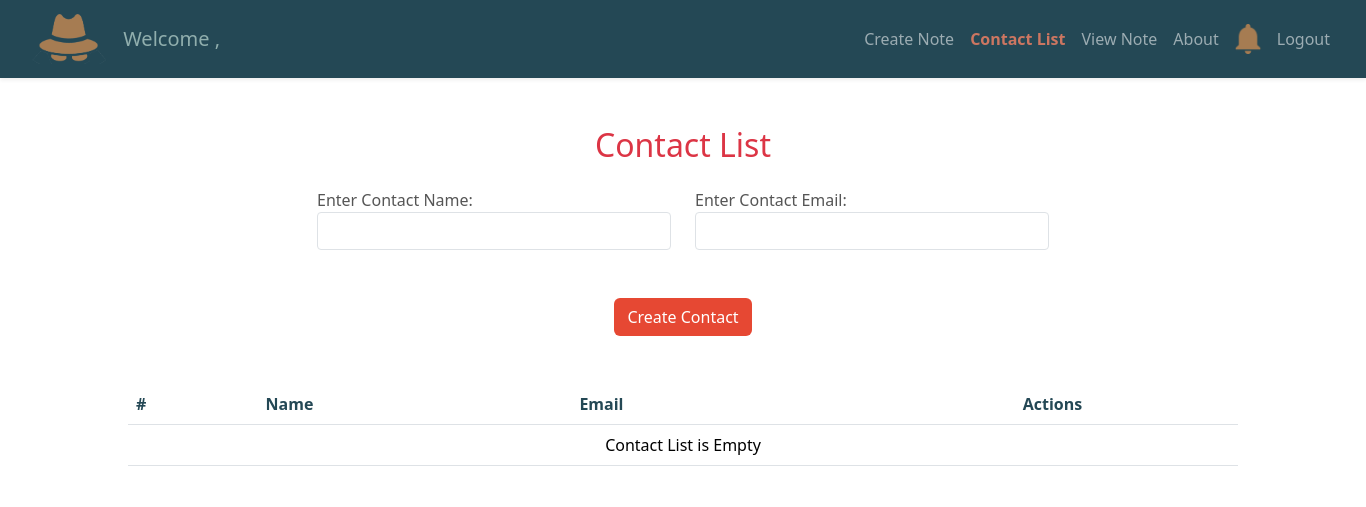
Scenario: Contact List Page Testing › shows error messages when trying to create a contact with invalid email
This screenshot has width=1366, height=507.
Type "John Doe" into the field with id "contact-name" at (494, 231), box [317,212,671,250]
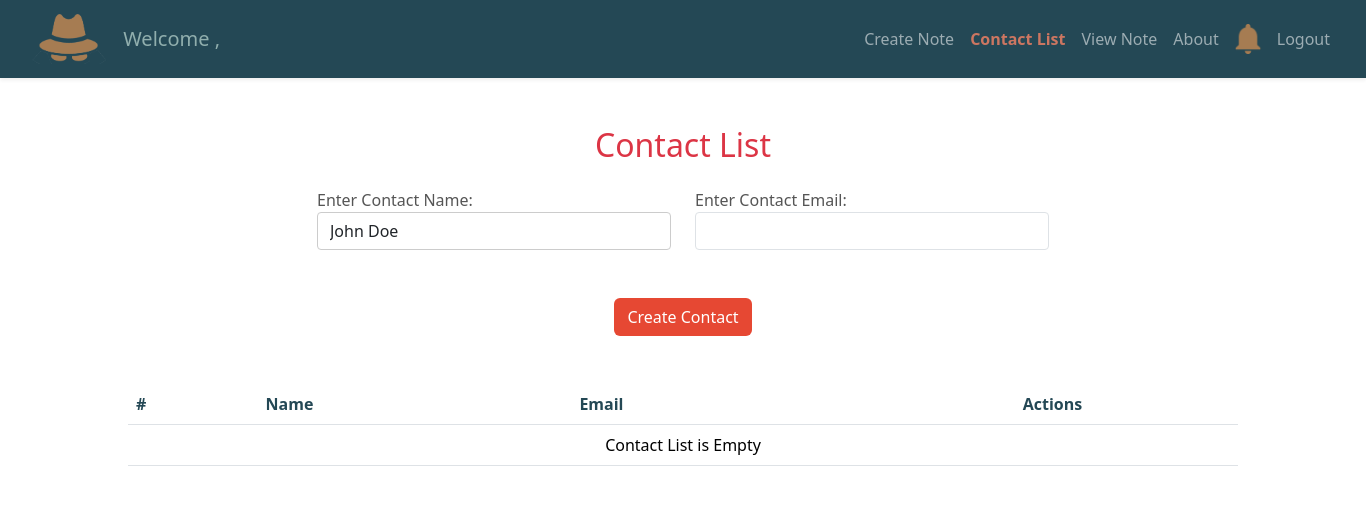
Type "invalid-email" into the field with id "contact-email" at (872, 231), box [695,212,1049,250]
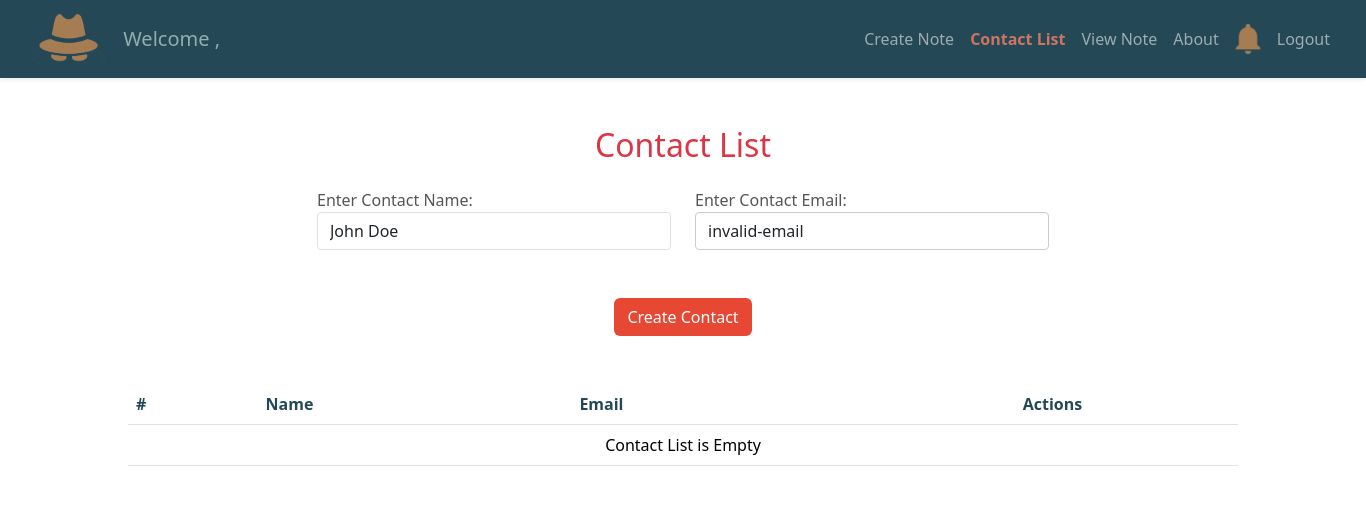
Click the button with id "add-btn" at (683, 317), box [614,298,751,336]
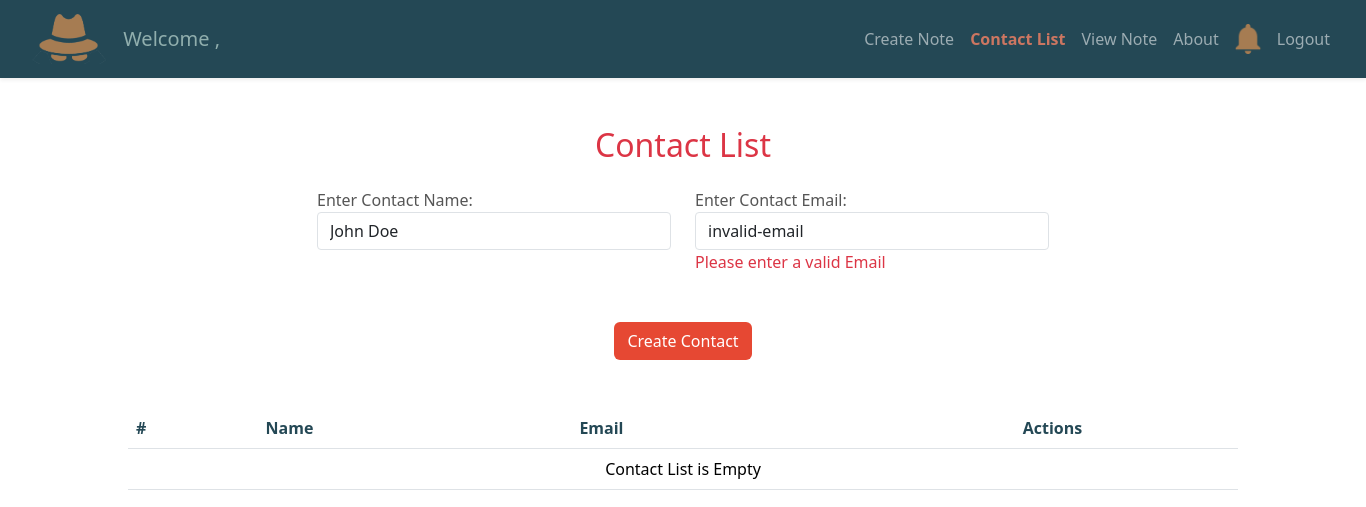
Result: the text "Please enter a valid Email" is shown at [695,251,886,273]
